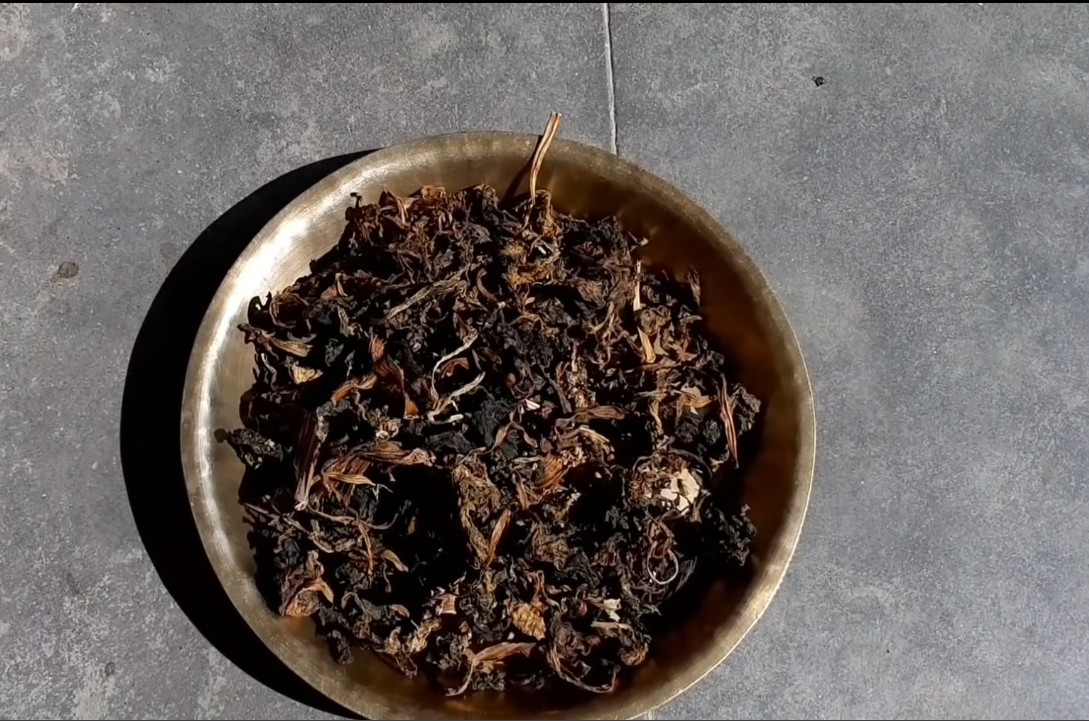gundruk: (247, 195, 743, 677)
